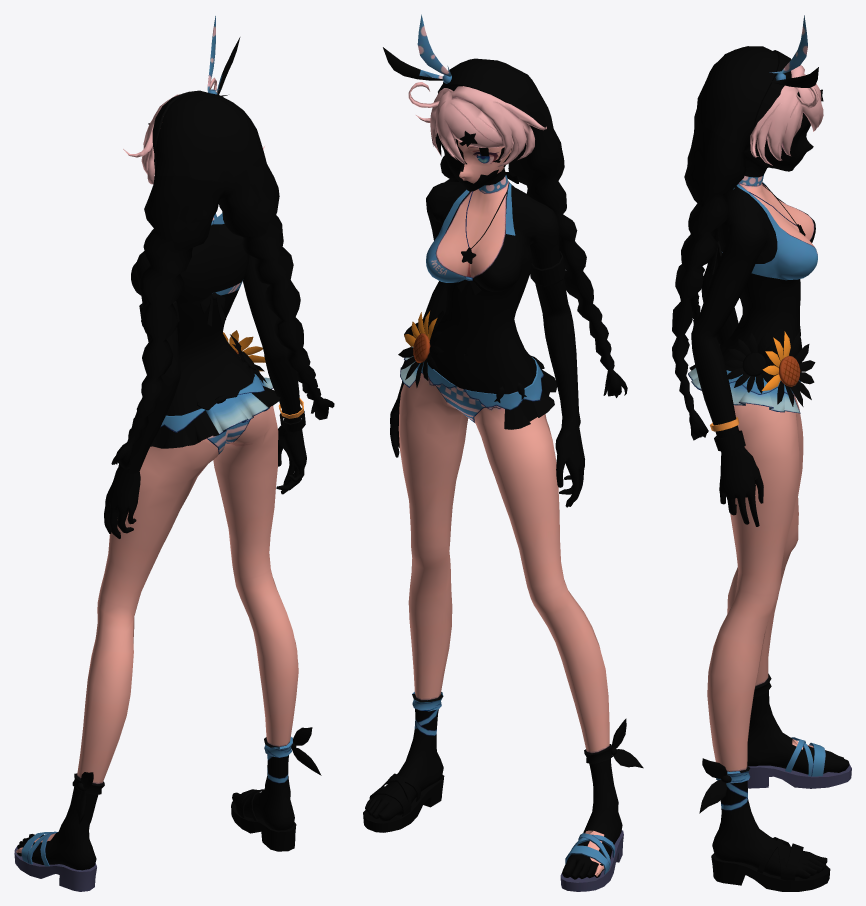
File: stargirl.glb
The picture shows the model from 3 angles, left to right: view 1: azimuth 30°, elevation 25°; view 2: azimuth 150°, elevation 25°; view 3: azimuth 270°, elevation 25°; orthographic projection. The views are drawn at different scales.
Parts seen in each view (by area): view 1: Object_122.001, Object_132.001, Object_124.001, Object_126.001, Object_134.001, Object_128.001; view 2: Object_122.001, Object_132.001, Object_124.001, Object_134.001, Object_130.001, Object_128.001, Object_126.001; view 3: Object_122.001, Object_132.001, Object_124.001, Object_128.001, Object_134.001, Object_126.001, Object_130.001.
Boxes of the visible parts, box(x1,y1,x2,y2) form: Object_122.001: box(16, 223, 306, 870); Object_132.001: box(111, 77, 334, 469); Object_124.001: box(14, 213, 321, 891); Object_126.001: box(150, 377, 280, 448); Object_134.001: box(148, 16, 240, 154); Object_128.001: box(223, 330, 303, 418); Object_122.001: box(365, 168, 622, 879); Object_132.001: box(404, 58, 627, 397); Object_124.001: box(363, 172, 643, 891); Object_134.001: box(383, 14, 530, 146); Object_130.001: box(440, 139, 526, 191); Object_128.001: box(398, 247, 476, 387); Object_126.001: box(400, 346, 557, 429); Object_122.001: box(691, 150, 849, 878); Object_132.001: box(672, 46, 823, 440); Object_124.001: box(699, 175, 851, 891); Object_128.001: box(710, 224, 815, 431); Object_134.001: box(753, 15, 823, 125); Object_126.001: box(688, 365, 800, 413); Object_130.001: box(751, 112, 813, 171).
Bounding box in the file's own units: 0.8609 × 2.62 × 0.5013.
3 materials, 3 textured.
